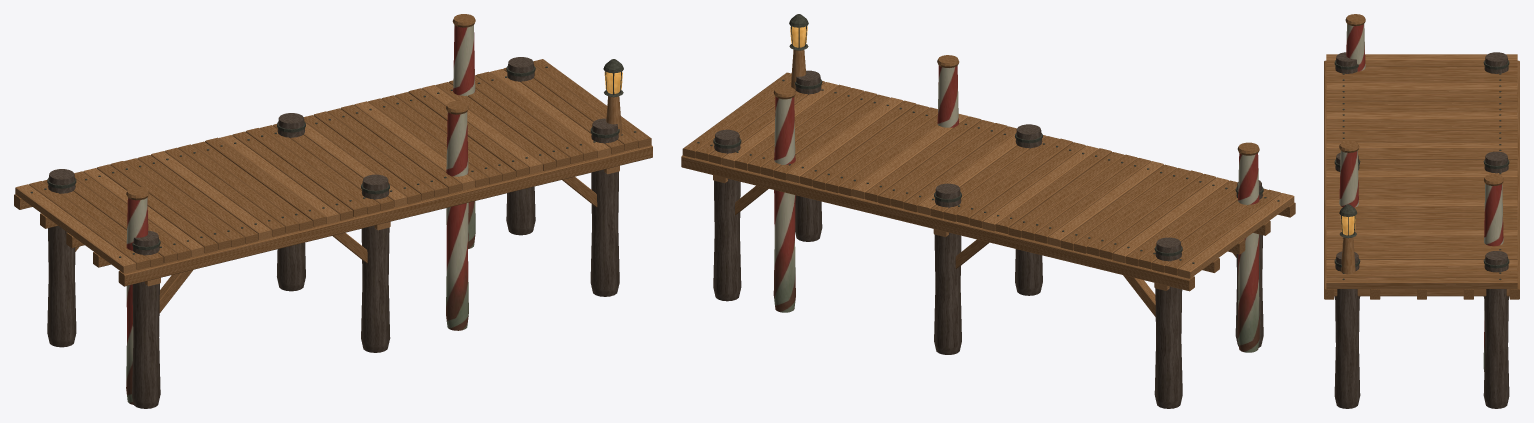
Rendered from swiss_lake_pier.glb.
3 views of the same model, side by side, from view 1: azimuth 30°, elevation 25°; view 2: azimuth 150°, elevation 25°; view 3: azimuth 270°, elevation 25° (orthographic). The views are drawn at different scales.
Parts seen in each view (by area): view 1: swiss_lake_pier; view 2: swiss_lake_pier; view 3: swiss_lake_pier.
Boxes of the visible parts, <box> form: swiss_lake_pier: <box>14,14,652,408</box>; swiss_lake_pier: <box>681,14,1295,408</box>; swiss_lake_pier: <box>1324,14,1519,408</box>.
Size of the model in its own units: 5.8 by 2.4 by 2.1.
2 materials, 2 textured.
